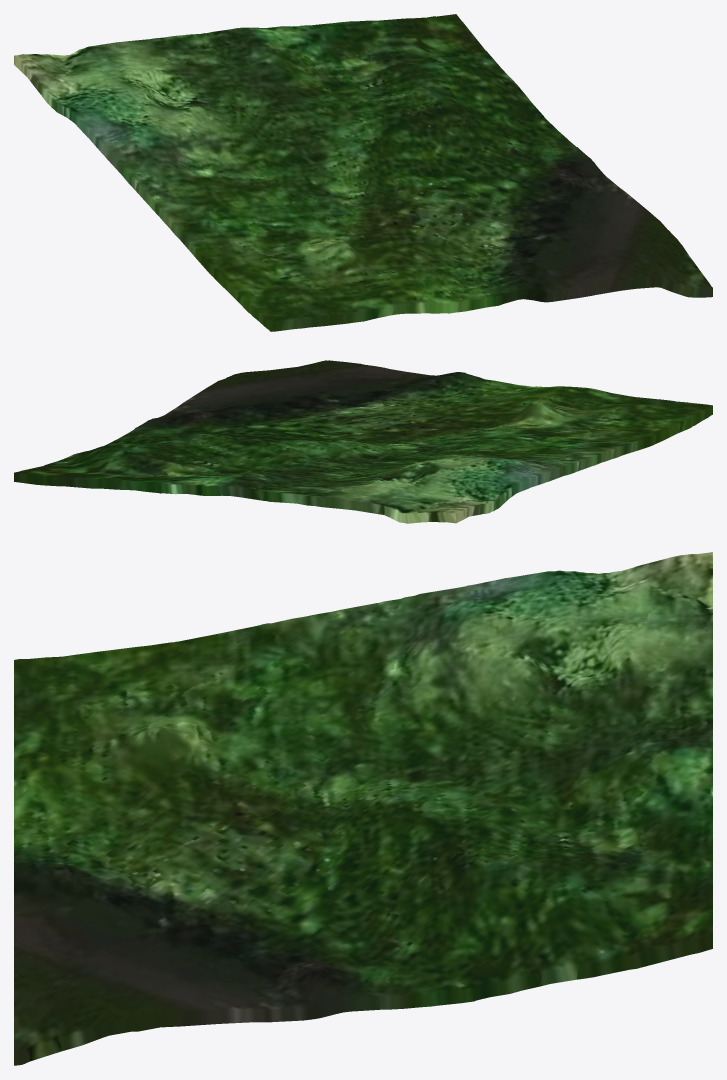
Rendered from z20-167565-405179-h0-yup-uvflip-v3-world.glb.
3 views of the same model, one above another, from view 1: azimuth 30°, elevation 25°; view 2: azimuth 150°, elevation 25°; view 3: azimuth 270°, elevation 25° (orthographic). The views are drawn at different scales.
Bounding box in the file's own units: 30.16 × 10.52 × 30.32.
1 material, 1 textured.
